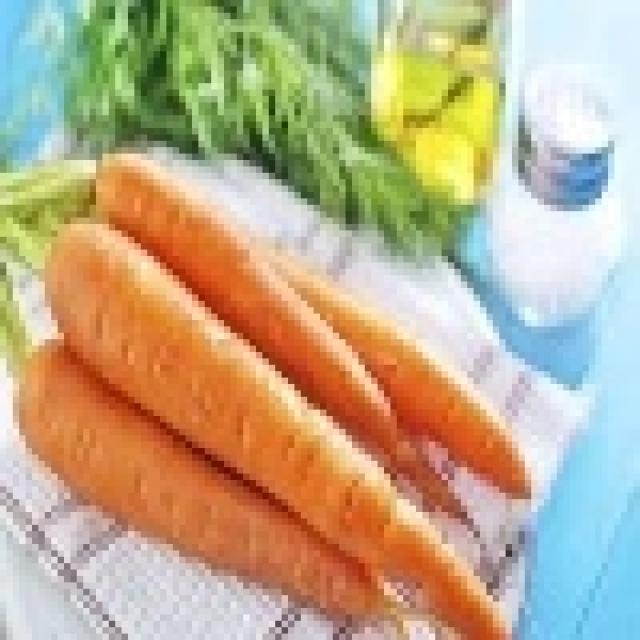Fresh_Carrot: (49, 159, 506, 640)
